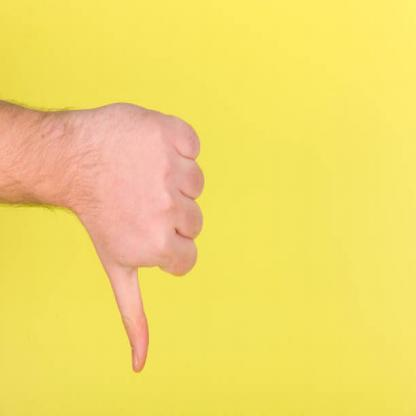thumb_down: (80, 98, 204, 378)
